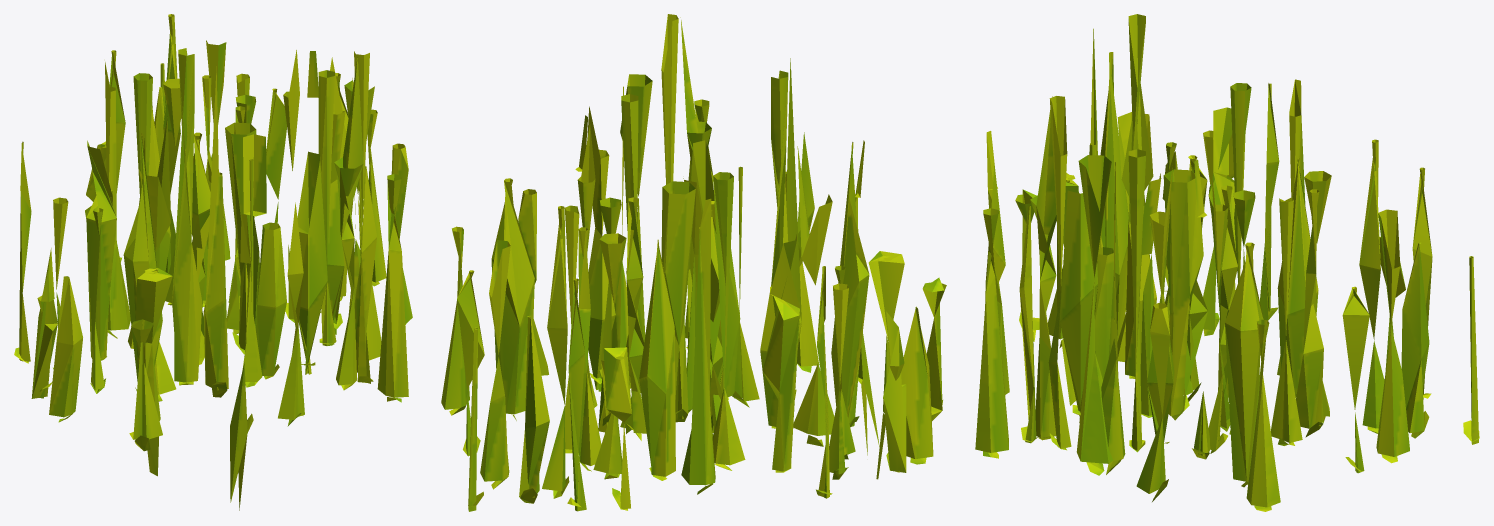
File: grass.fbx
3 renders of one model, left to right at view 1: azimuth 30°, elevation 25°; view 2: azimuth 150°, elevation 25°; view 3: azimuth 270°, elevation 25°, orthographic. The views are drawn at different scales.
Visible parts, largest first — view 1: grasslike_1; view 2: grasslike_1; view 3: grasslike_1.
Boxes of the visible parts, bbox=[...] form: grasslike_1: bbox=[14, 14, 412, 510]; grasslike_1: bbox=[441, 14, 946, 511]; grasslike_1: bbox=[975, 14, 1479, 511].
Size of the model in its own units: 193 by 188 by 195.
